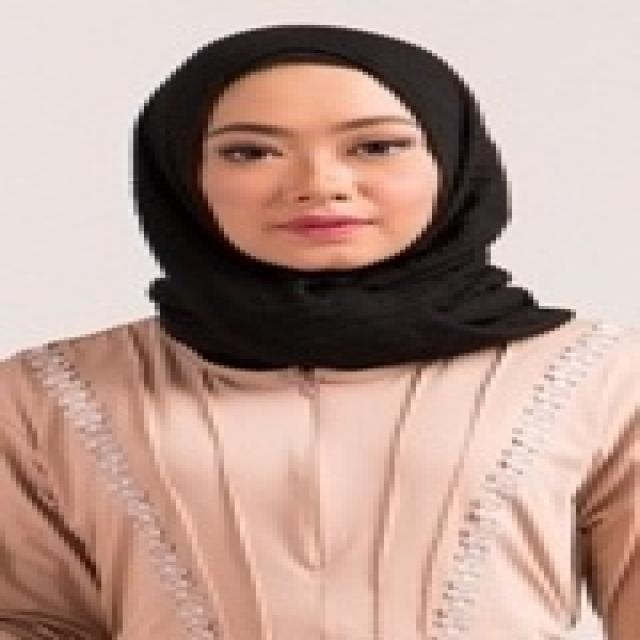head: (134, 23, 489, 292)
